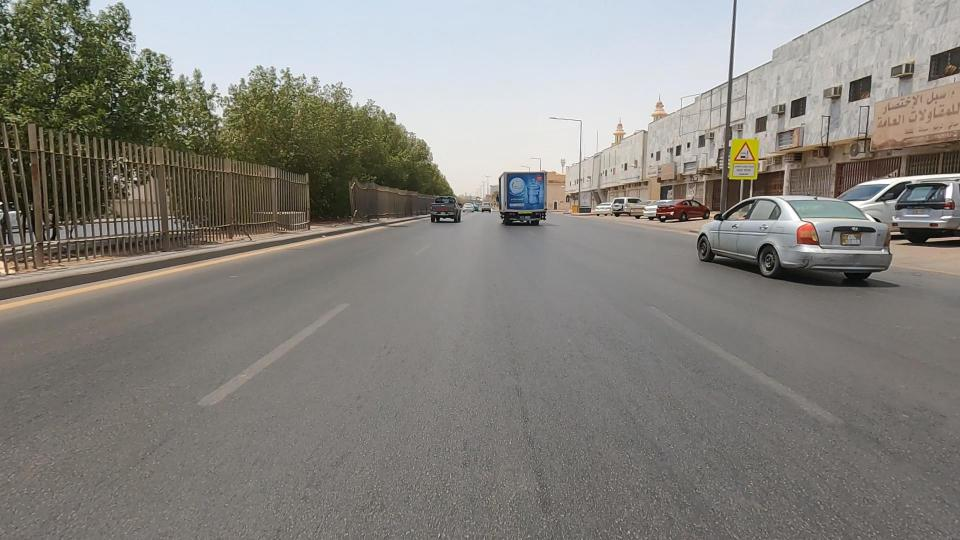BAD_BILLBOARD: (821, 80, 960, 165), (628, 142, 709, 192), (666, 138, 713, 187)
